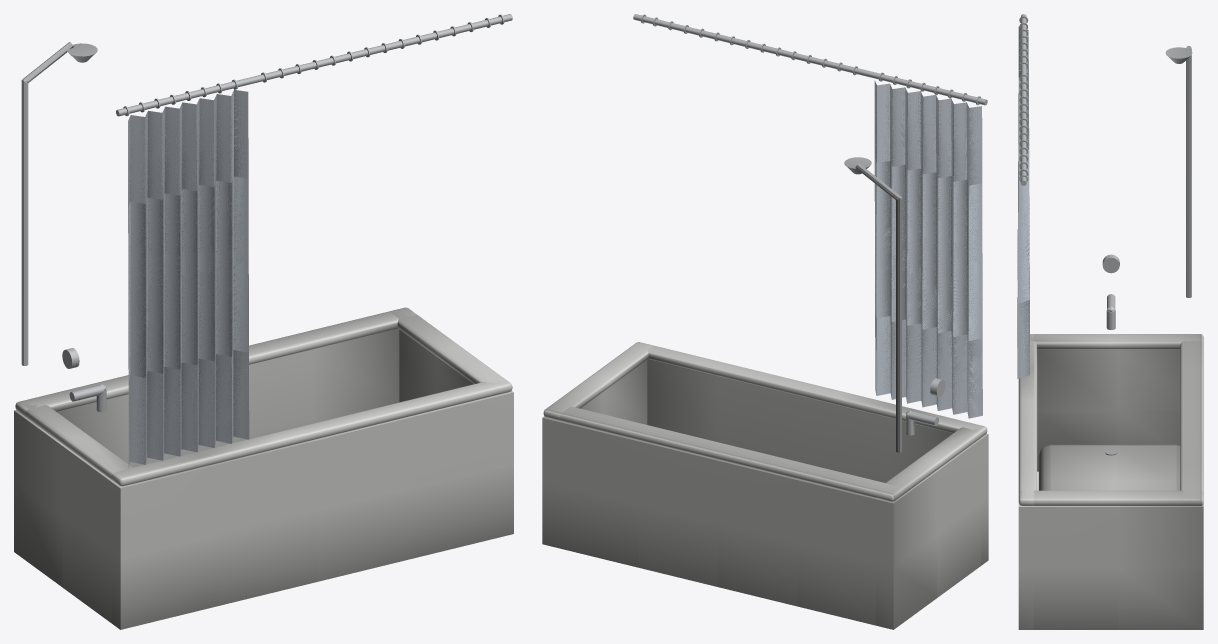
File: bathtub.glb
3 views of the same model, side by side, from view 1: azimuth 30°, elevation 25°; view 2: azimuth 150°, elevation 25°; view 3: azimuth 270°, elevation 25° (orthographic). The views are drawn at different scales.
Visible parts, largest first — view 1: body; view 2: body; view 3: body.
Boxes of the visible parts, x1,y1,x2,y2 form: body: (14, 14, 513, 629); body: (542, 14, 988, 629); body: (1017, 14, 1203, 629).
Size of what is drawn, in the model's own units: 1.6 by 2.02 by 0.756.
3 materials, 1 textured.
